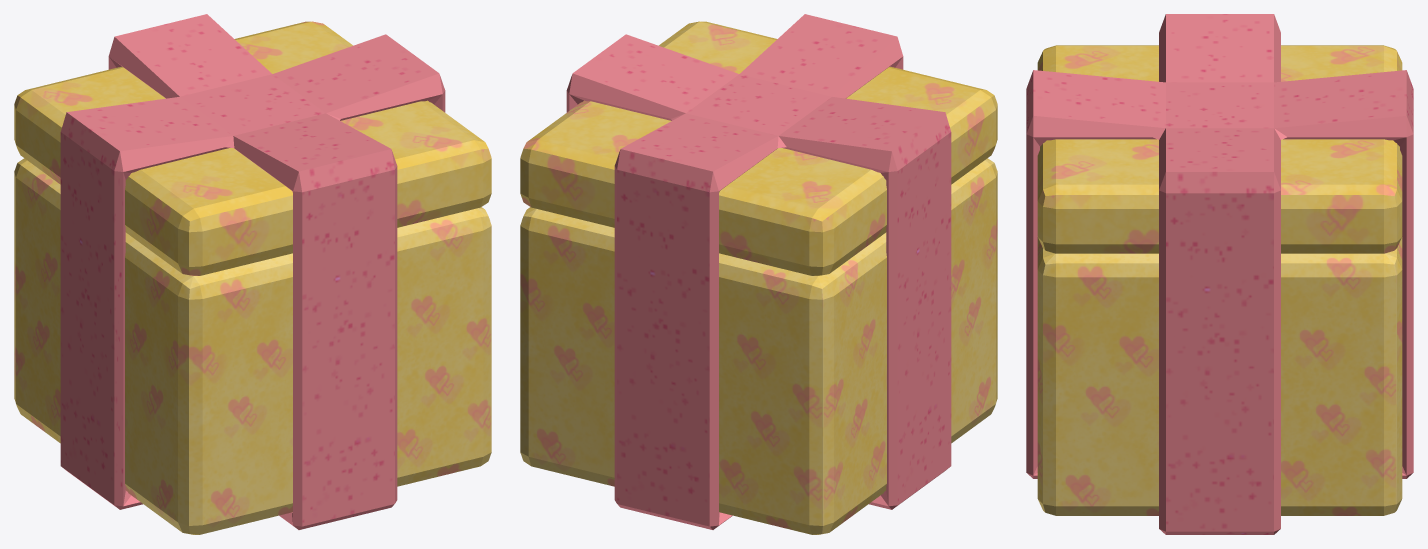
The model's file is GiftBox.fbx.
The picture shows the model from 3 angles, left to right: view 1: azimuth 30°, elevation 25°; view 2: azimuth 150°, elevation 25°; view 3: azimuth 270°, elevation 25°; orthographic projection.
Parts seen in each view (by area): view 1: Box; view 2: Box; view 3: Box.
Part boxes in pixels (x1,y1,x2,y2): Box: (14,14,491,534); Box: (520,14,997,534); Box: (1026,14,1413,534).
Size of the model in its own units: 64.83 by 67.12 by 64.83.
Materials: 1 (1 with a texture image).
